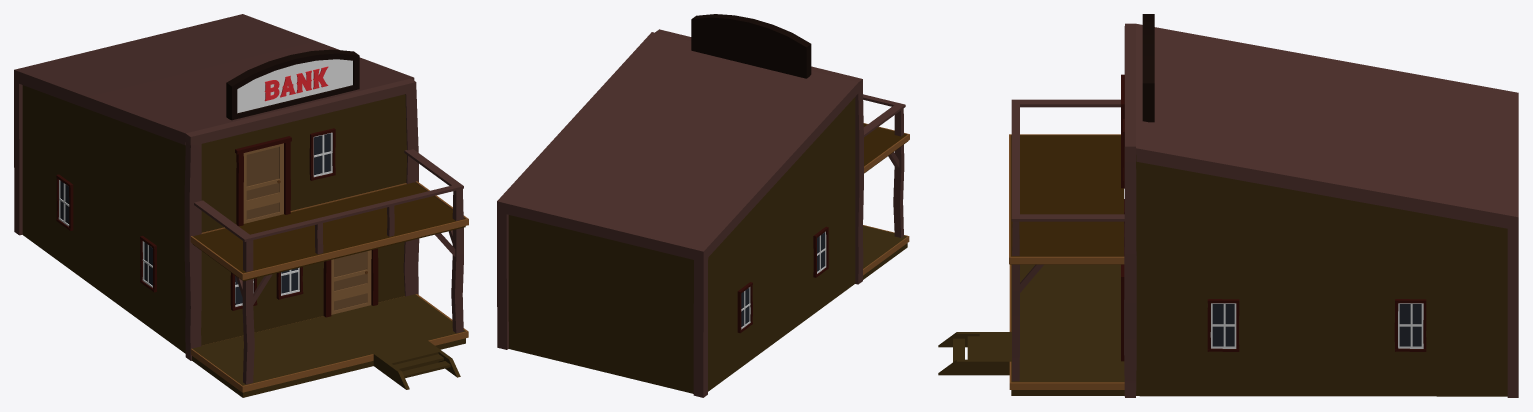
The model's file is Bank.fbx.
3 views of the same model, side by side, from view 1: azimuth 30°, elevation 25°; view 2: azimuth 150°, elevation 25°; view 3: azimuth 270°, elevation 25° (orthographic). The views are drawn at different scales.
Parts seen in each view (by area): view 1: Bank_Building; view 2: Bank_Building; view 3: Bank_Building.
Part boxes in pixels (left/top/right/bottom): Bank_Building: left=14, top=14, right=468, bottom=397; Bank_Building: left=497, top=14, right=909, bottom=397; Bank_Building: left=938, top=14, right=1518, bottom=397.
Size of the model in its own units: 781 by 874 by 1532.
